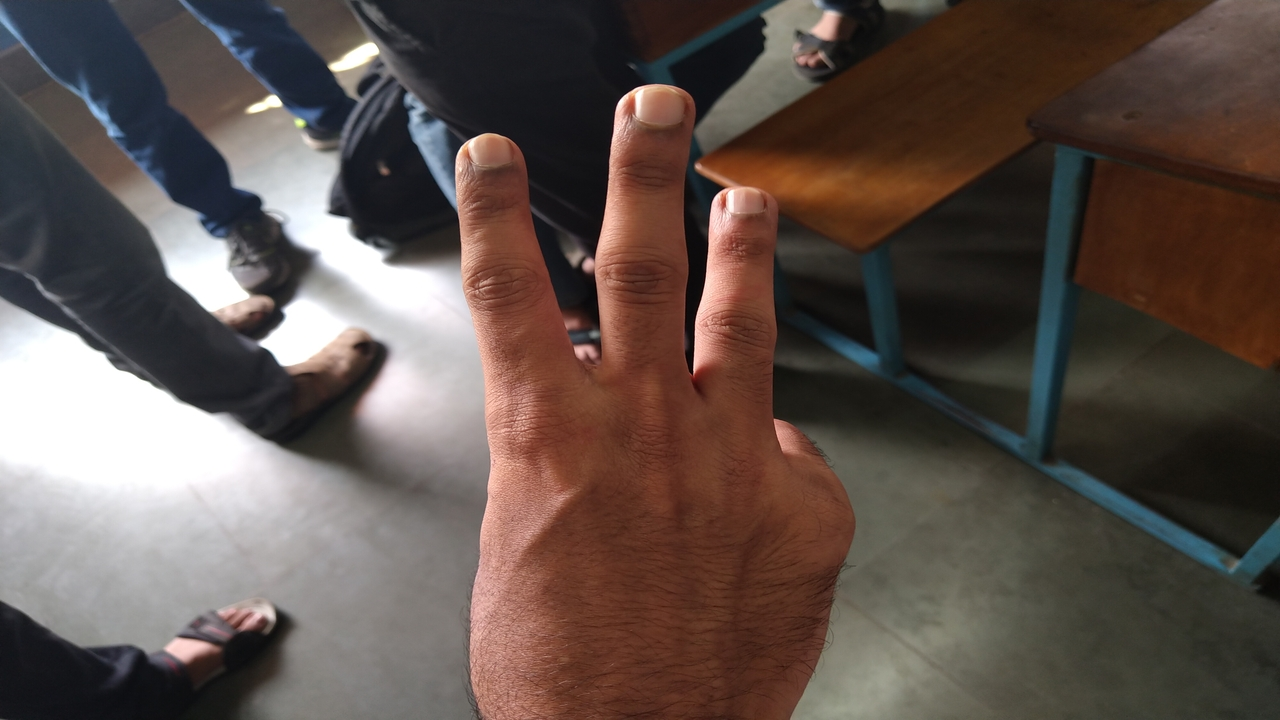fingertip: (606, 78, 694, 142), (450, 126, 522, 192), (706, 176, 782, 238)
